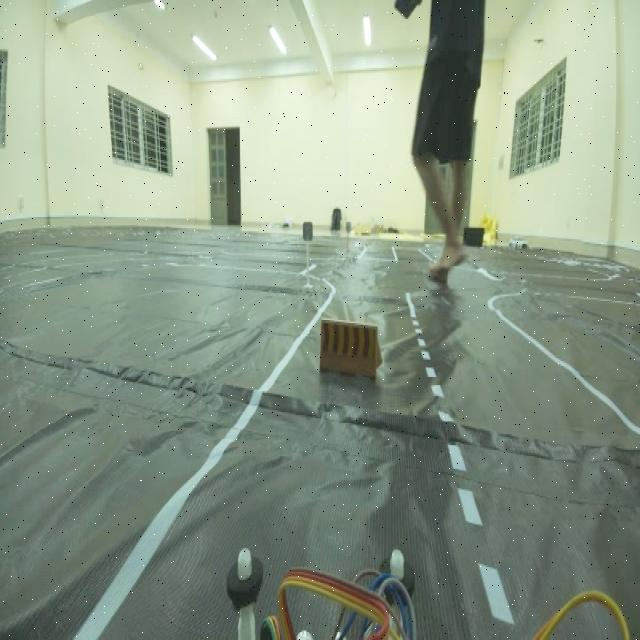roadblock: (315, 302, 391, 402)
